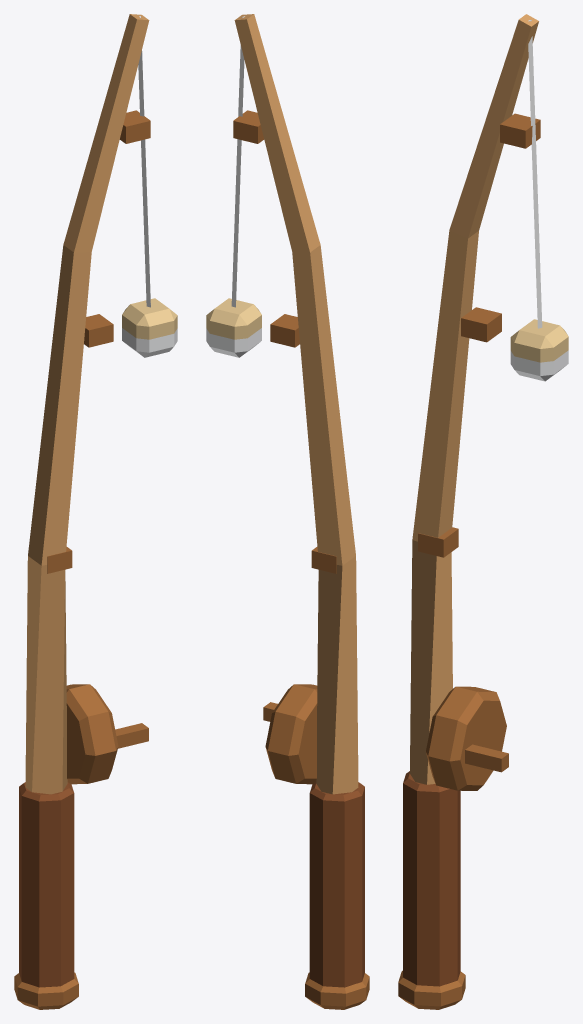
File: WoodFishingRod.fbx
3 renders of one model, left to right at view 1: azimuth 30°, elevation 25°; view 2: azimuth 150°, elevation 25°; view 3: azimuth 330°, elevation 25°, orthographic. The views are drawn at different scales.
Parts seen in each view (by area): view 1: WoodFishingRod; view 2: WoodFishingRod; view 3: WoodFishingRod.
Part boxes in pixels (x1,y1,x2,y2): WoodFishingRod: (14, 14, 177, 1009); WoodFishingRod: (206, 14, 369, 1009); WoodFishingRod: (398, 14, 568, 1009).
Size of the model in its own units: 0.74 by 4.45 by 0.44.
Materials: 1 (1 with a texture image).
